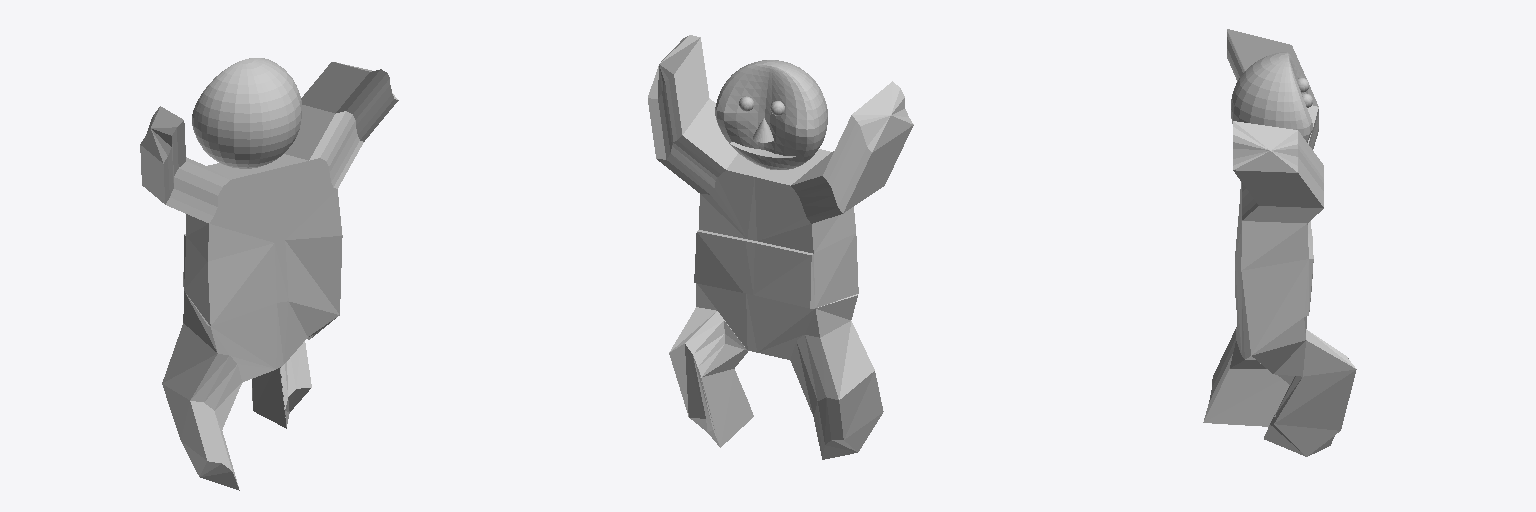
The model's file is man_000012.obj.
3 views of the same model, side by side, from view 1: azimuth 30°, elevation 25°; view 2: azimuth 150°, elevation 25°; view 3: azimuth 270°, elevation 25° (orthographic).
Parts seen in each view (by area): view 1: Cube; view 2: Cube; view 3: Cube.
Part boxes in pixels (bbox=[...]): Cube: bbox=[140, 58, 398, 490]; Cube: bbox=[648, 35, 913, 459]; Cube: bbox=[1203, 29, 1356, 456].
Bounding box in the file's own units: 79.08 × 124 × 44.12.